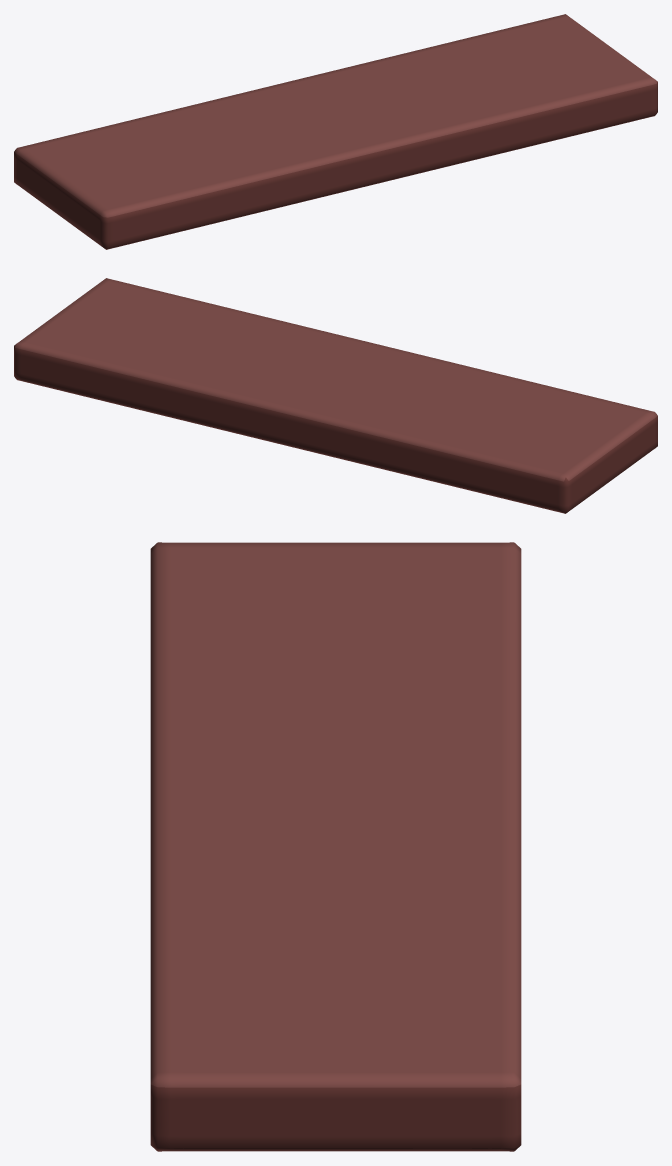
The model's file is 3d_Shelf.fbx.
3 views of the same model, one above another, from view 1: azimuth 30°, elevation 25°; view 2: azimuth 150°, elevation 25°; view 3: azimuth 270°, elevation 25° (orthographic). The views are drawn at different scales.
Visible parts, largest first — view 1: 3d_Shelf; view 2: 3d_Shelf; view 3: 3d_Shelf.
Part boxes in pixels (x1,y1,x2,y2): 3d_Shelf: (14, 14, 657, 249); 3d_Shelf: (14, 278, 657, 513); 3d_Shelf: (150, 542, 521, 1151).
Bounding box in the file's own units: 1.22 × 0.0772 × 0.3529.
